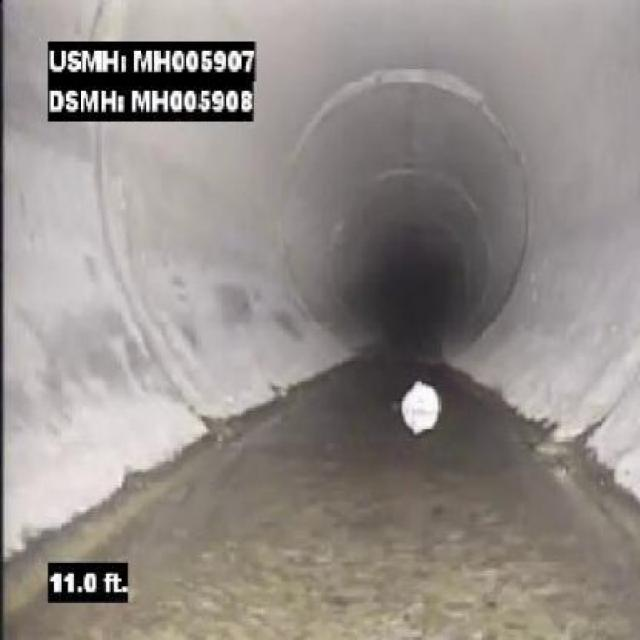Joint offset: (320, 60, 489, 117)
